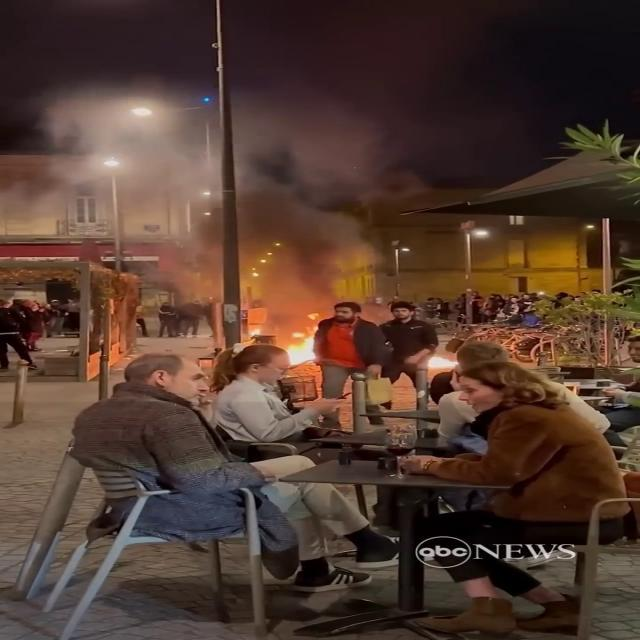Fire: (275, 316, 324, 369)
Smoke: (144, 71, 410, 307)
